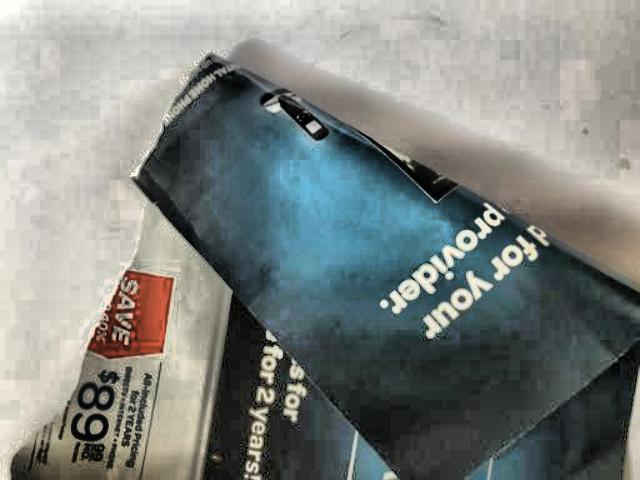Paper: (0, 46, 640, 480)
